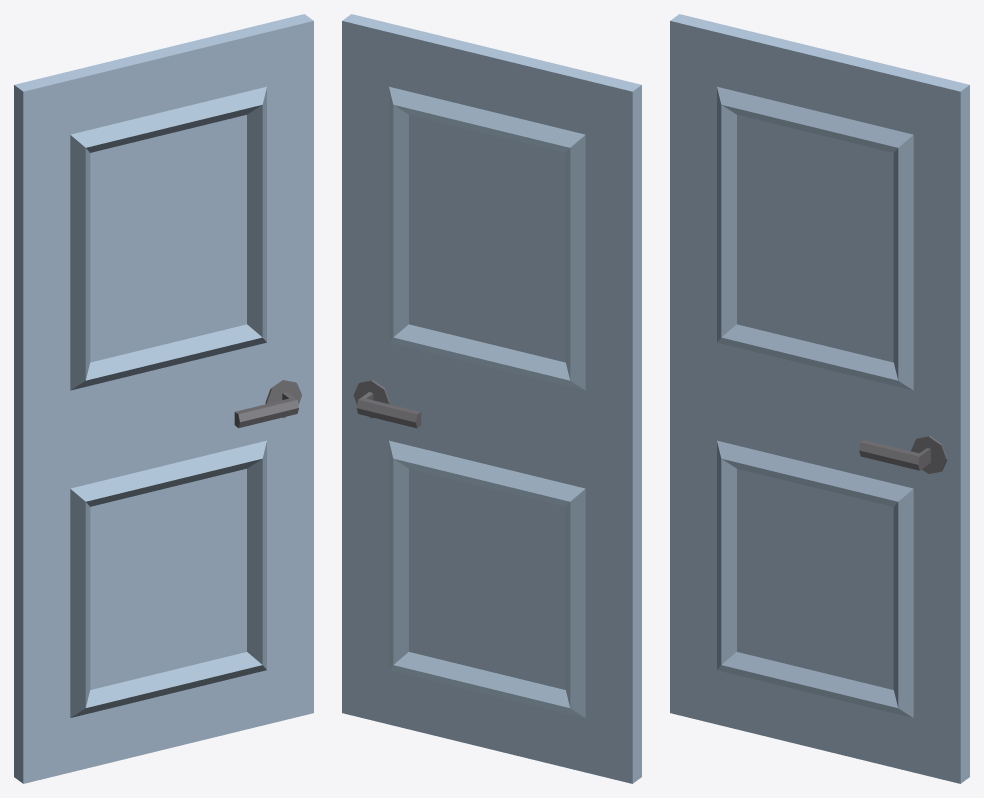
The model's file is Porta.fbx.
3 views of the same model, side by side, from view 1: azimuth 30°, elevation 25°; view 2: azimuth 150°, elevation 25°; view 3: azimuth 330°, elevation 25° (orthographic).
Visible parts, largest first — view 1: Porta; view 2: Porta; view 3: Porta.
Part boxes in pixels (x1,y1,x2,y2): Porta: (14,14,313,783); Porta: (342,14,641,783); Porta: (670,14,969,783).
Bounding box in the file's own units: 89.45 × 204 × 19.76.
